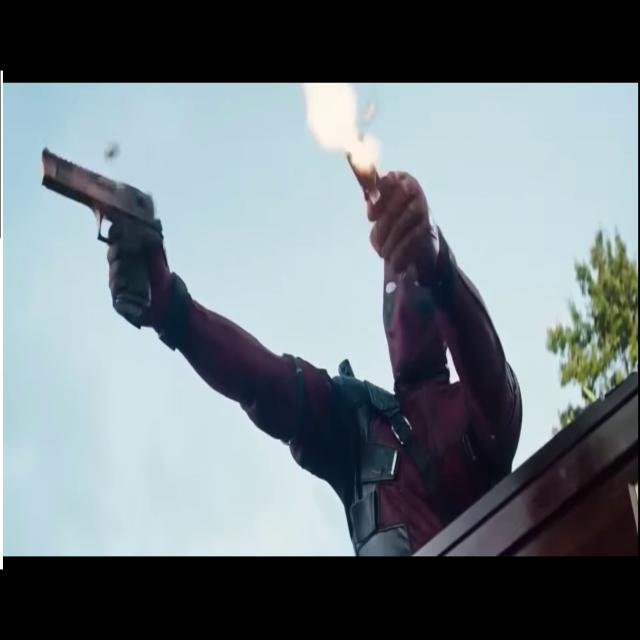weapons: (31, 142, 162, 346)
